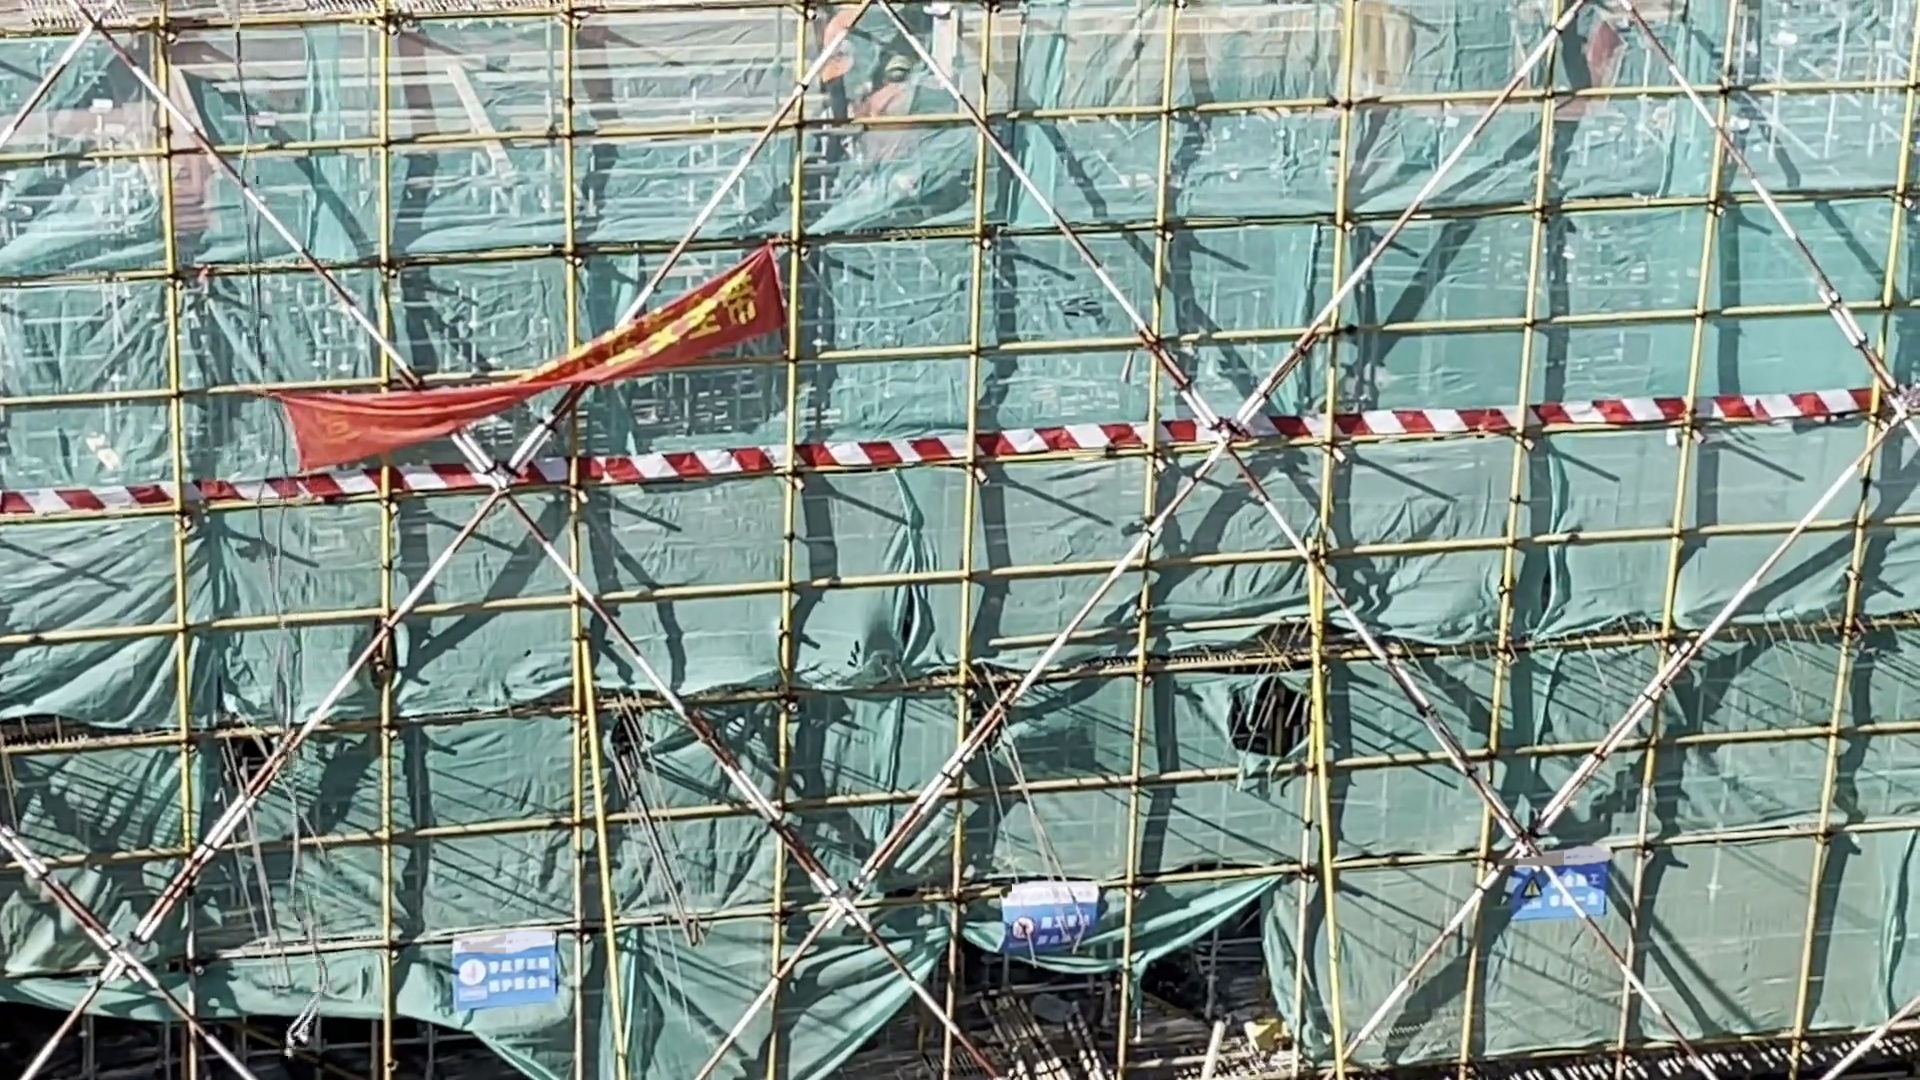slogan: (272, 229, 791, 473)
